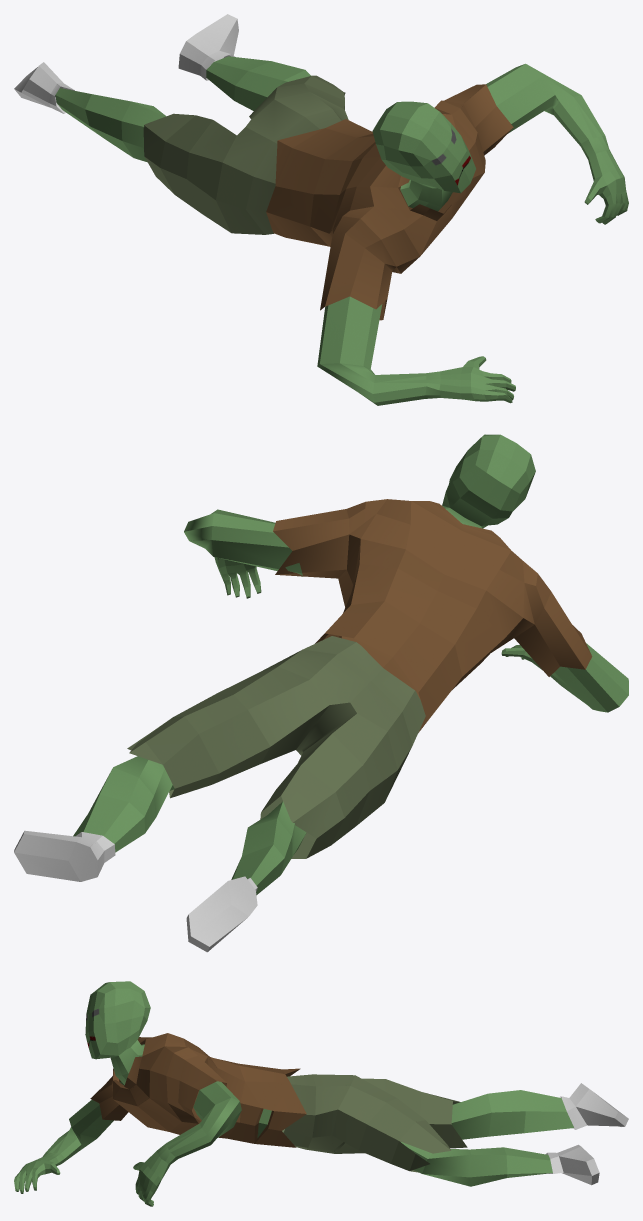
The model's file is ZombieCrawl(99).obj.
The picture shows the model from 3 angles, top to bottom: view 1: azimuth 30°, elevation 25°; view 2: azimuth 150°, elevation 25°; view 3: azimuth 270°, elevation 25°; orthographic projection. The views are drawn at different scales.
Parts seen in each view (by area): view 1: Object001; view 2: Object001; view 3: Object001.
Part boxes in pixels (left/top/right/bottom): Object001: left=14, top=14, right=628, bottom=405; Object001: left=14, top=434, right=628, bottom=952; Object001: left=14, top=981, right=628, bottom=1206.
Bounding box in the file's own units: 32.16 × 23.23 × 65.21.
